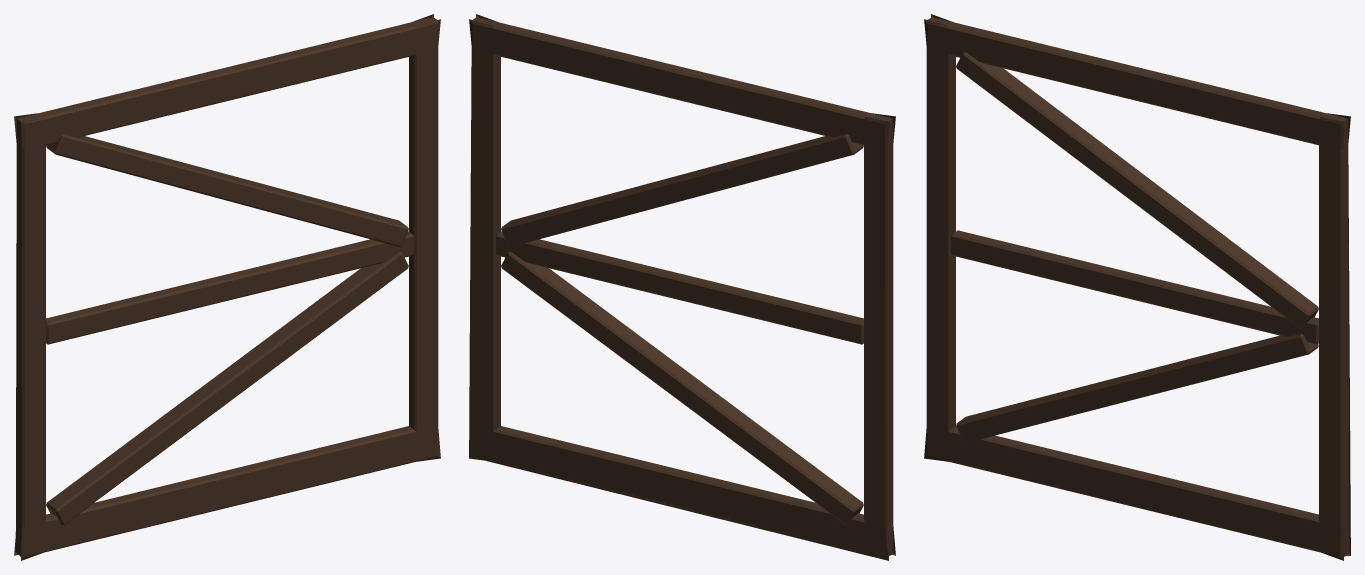
The model's file is timber_plain_w12.fbx.
The picture shows the model from 3 angles, left to right: view 1: azimuth 30°, elevation 25°; view 2: azimuth 150°, elevation 25°; view 3: azimuth 330°, elevation 25°; orthographic projection.
Parts seen in each view (by area): view 1: timber_plain_w12; view 2: timber_plain_w12; view 3: timber_plain_w12.
Boxes of the visible parts, bbox=[...] form: timber_plain_w12: bbox=[14, 14, 440, 560]; timber_plain_w12: bbox=[469, 14, 895, 560]; timber_plain_w12: bbox=[924, 14, 1350, 560].
Bounding box in the file's own units: 1210 × 1210 × 55.
